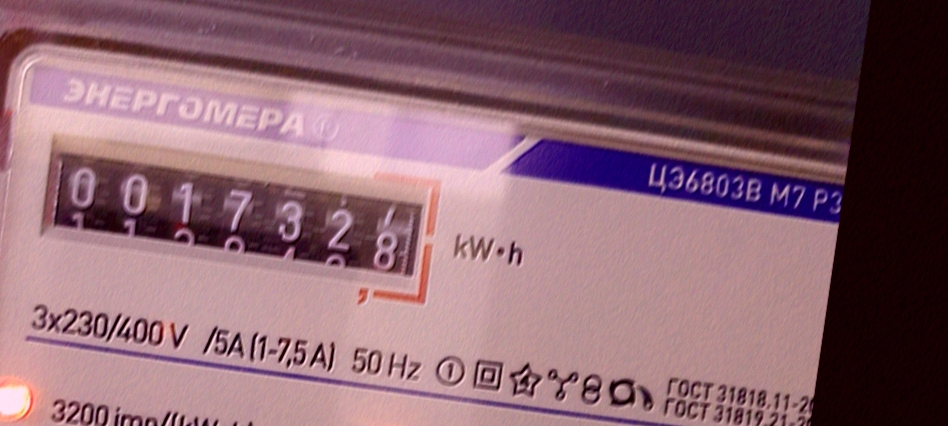0: (63, 164, 101, 213), (117, 169, 152, 219)
1: (170, 178, 198, 227)
2: (321, 206, 356, 254)
3: (273, 198, 305, 245)
7: (220, 187, 253, 237)
8: (367, 228, 399, 274)
screen: (25, 126, 449, 312)
